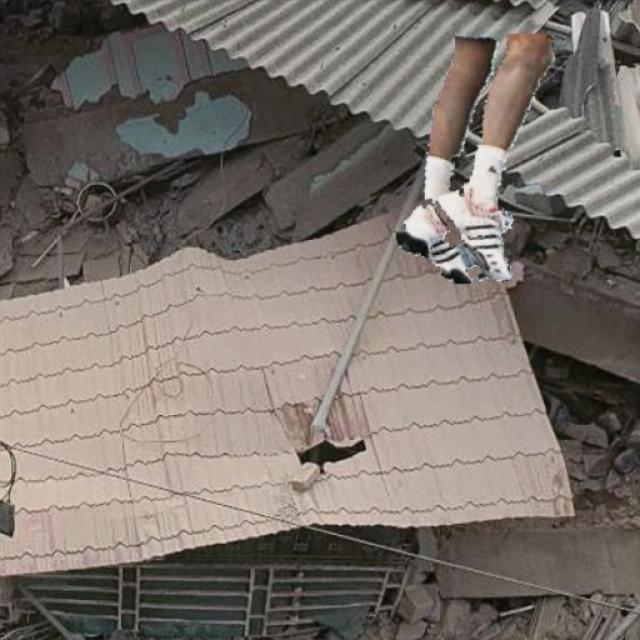Person in Rubble: (394, 34, 554, 282)
